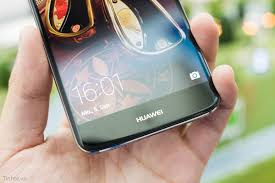huawei: (26, 1, 226, 153)
